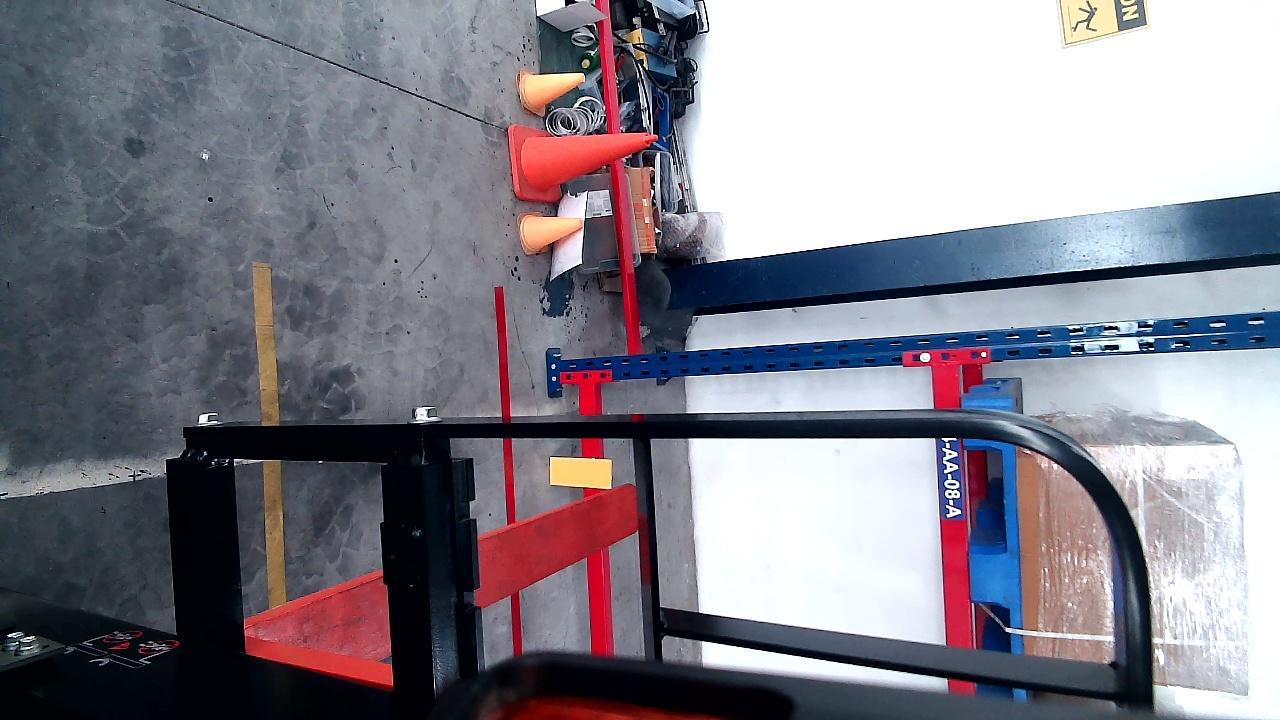red_line: (491, 286, 520, 653)
yellow_line: (254, 255, 287, 605)
